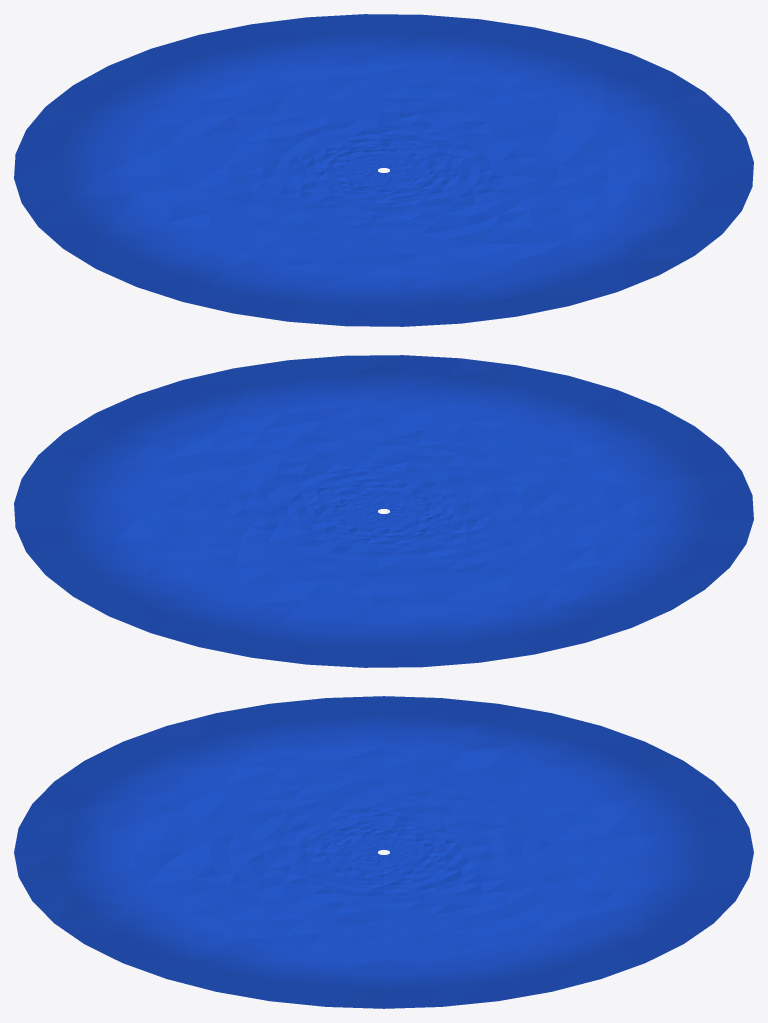
Rendered from ENV_Fishing_Water_01.fbx.
3 renders of one model, top to bottom at view 1: azimuth 30°, elevation 25°; view 2: azimuth 150°, elevation 25°; view 3: azimuth 270°, elevation 25°, orthographic.
Visible parts, largest first — view 1: ENV_Fishing_Water_01; view 2: ENV_Fishing_Water_01; view 3: ENV_Fishing_Water_01.
Boxes of the visible parts, <box> form: ENV_Fishing_Water_01: <box>14,14,753,326</box>; ENV_Fishing_Water_01: <box>14,355,753,667</box>; ENV_Fishing_Water_01: <box>14,696,753,1008</box>.
Bounding box in the file's own units: 14231 × 0 × 14231.
